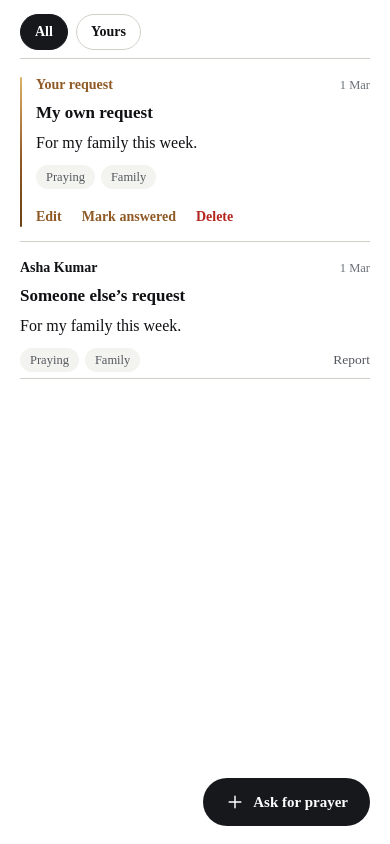
Test: All | Yours › goes back to everyone’s under All
expect the text "My own request" is shown: met, box [36,103,153,122]
Click the button with test id "prayer-wall-filter-yours" at (108, 32), box [76,14,141,50]
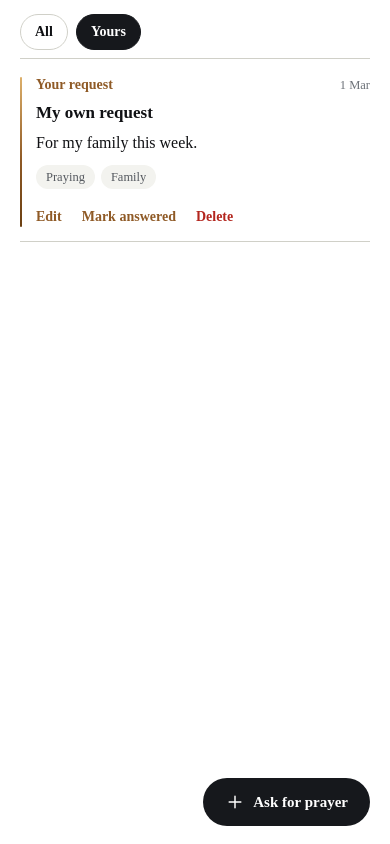
Click the button with test id "prayer-wall-filter-all" at (44, 32), box [20,14,68,50]
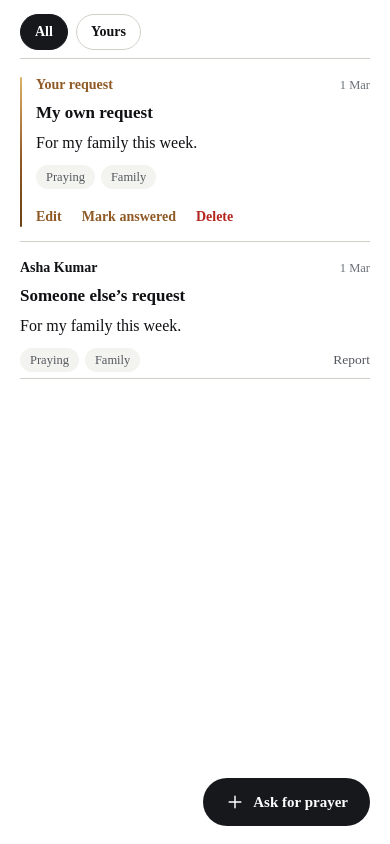
expect the text "Someone else’s request" is shown: met, box [20,286,185,305]
